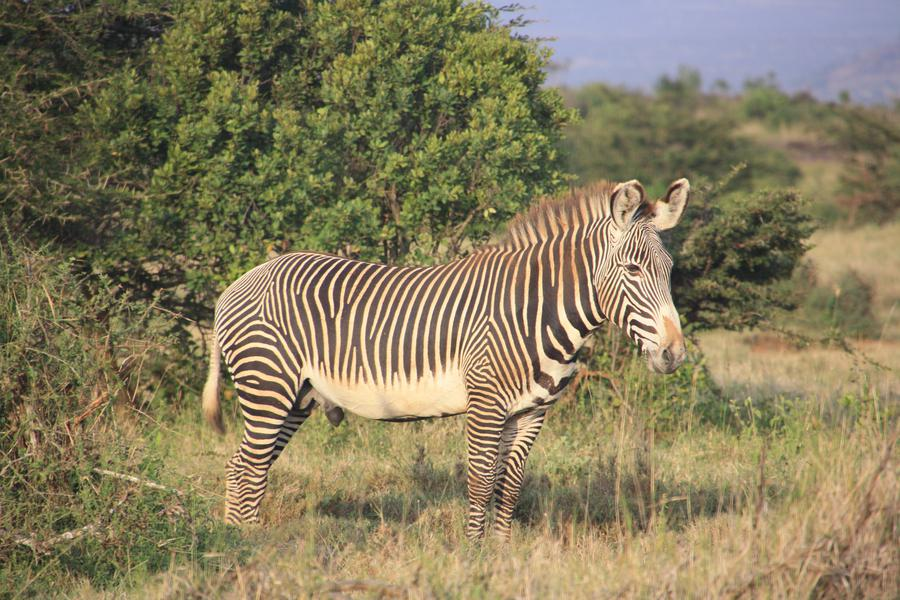zebra_grevys: (216, 243, 533, 409)
